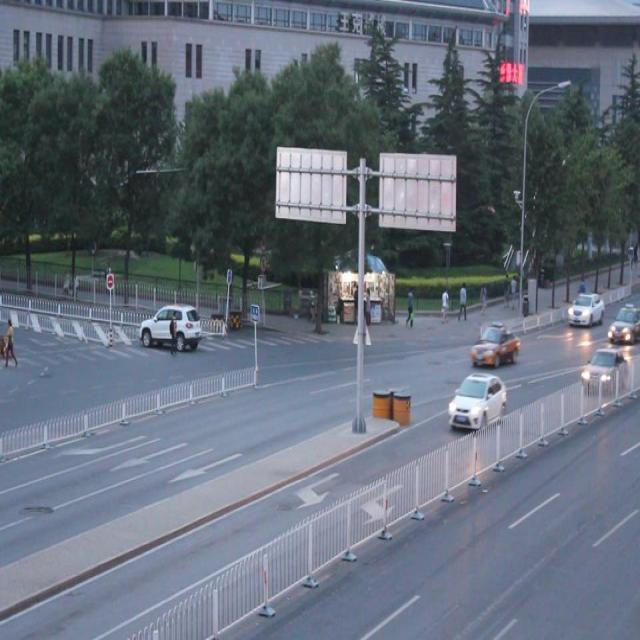car: (448, 372, 506, 428), (140, 302, 202, 349), (470, 322, 520, 368), (581, 349, 625, 392), (566, 291, 604, 326), (607, 305, 640, 341)
